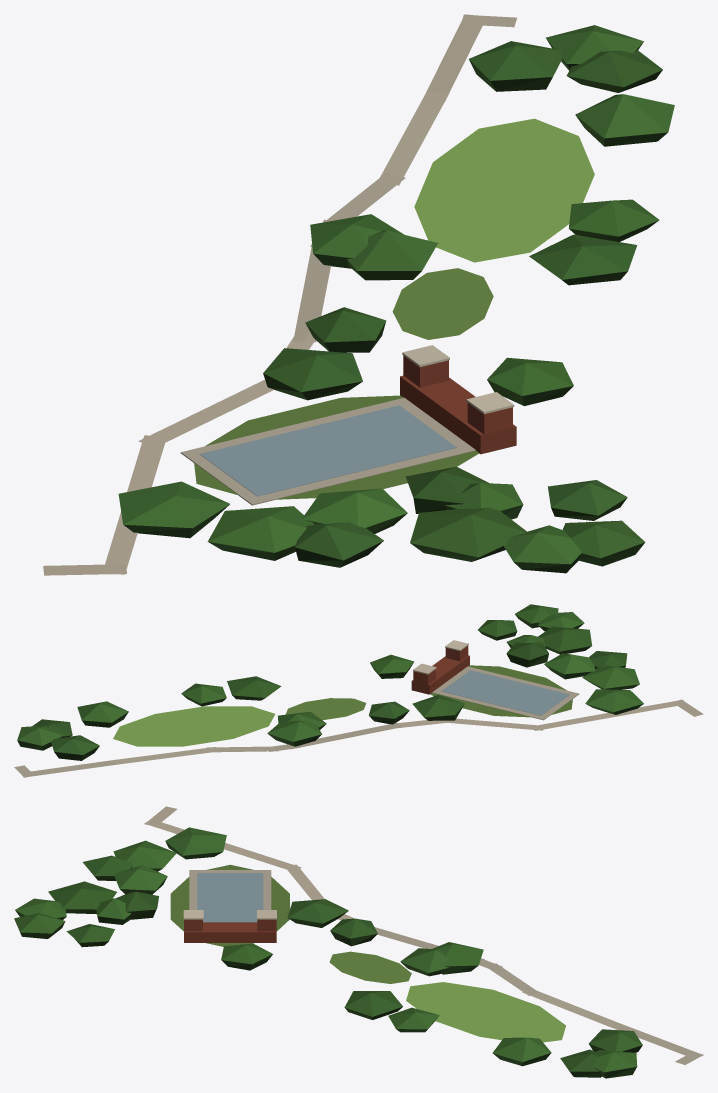
3 renders of one model, top to bottom at view 1: azimuth 30°, elevation 25°; view 2: azimuth 150°, elevation 25°; view 3: azimuth 270°, elevation 25°, orthographic. The views are drawn at different scales.
Visible parts, largest first — view 1: astoria-park-lod2; view 2: astoria-park-lod2; view 3: astoria-park-lod2.
Part boxes in pixels (box(x1,y1,x2,y2)): astoria-park-lod2: box(43, 14, 674, 575); astoria-park-lod2: box(14, 604, 703, 777); astoria-park-lod2: box(14, 806, 703, 1078).
Size of the model in its own units: 787 by 32.04 by 836.
